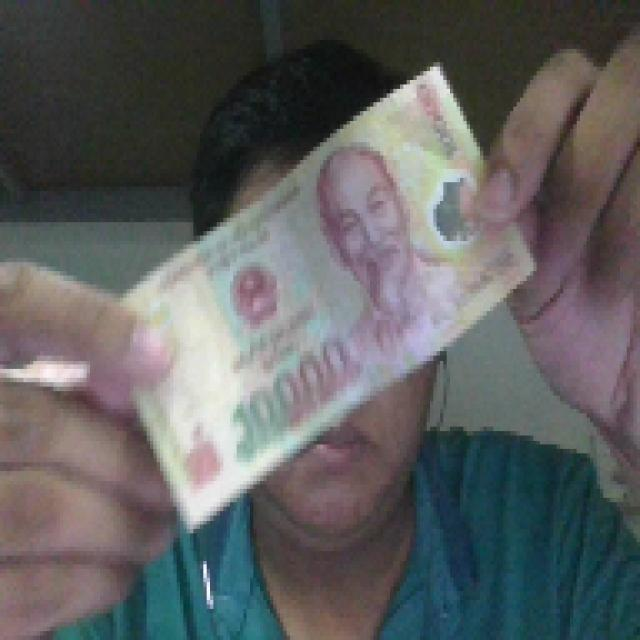10 000 VND: (113, 58, 540, 533)
